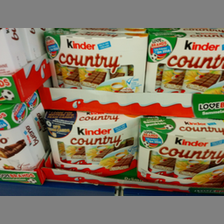chocolate: (42, 111, 140, 176), (43, 31, 147, 92), (136, 116, 224, 184), (145, 31, 224, 94)
